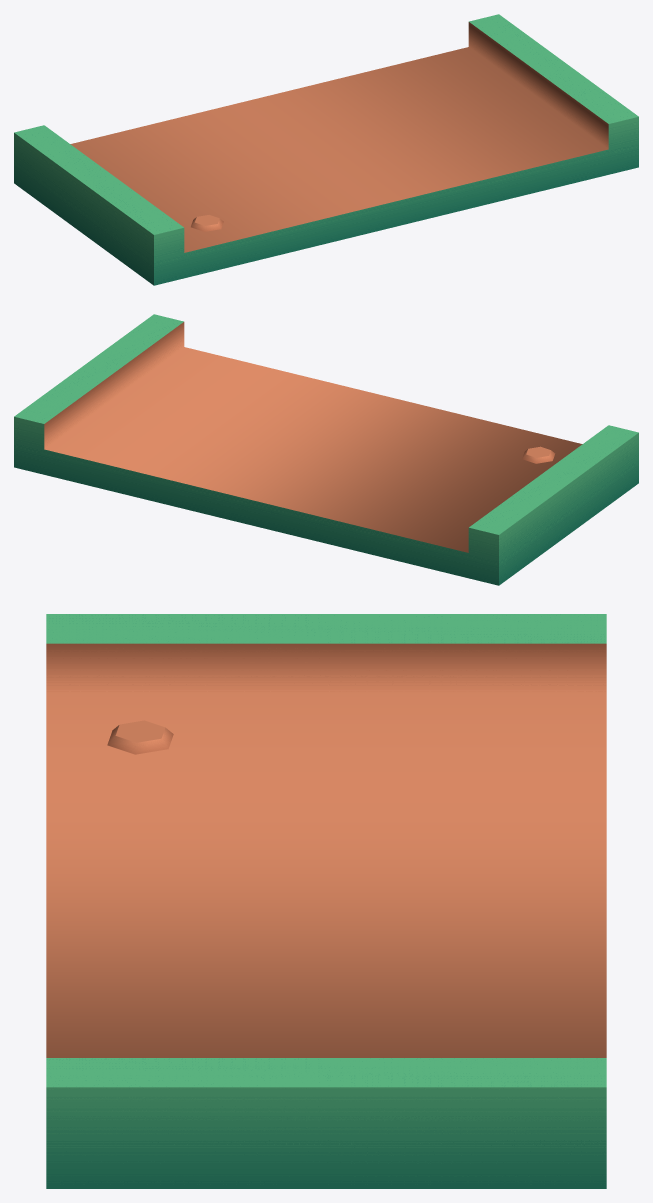
Rendered from tower-defense-kit--tile-wide-straight.glb.
3 views of the same model, one above another, from view 1: azimuth 30°, elevation 25°; view 2: azimuth 150°, elevation 25°; view 3: azimuth 270°, elevation 25° (orthographic). The views are drawn at different scales.
Parts seen in each view (by area): view 1: tile-wide-straight; view 2: tile-wide-straight; view 3: tile-wide-straight.
Part boxes in pixels (bbox=[...]): tile-wide-straight: bbox=[14, 14, 638, 285]; tile-wide-straight: bbox=[14, 314, 638, 585]; tile-wide-straight: bbox=[46, 614, 606, 1188].
Size of the model in its own units: 2 by 0.2 by 1.
1 material, 1 textured.
